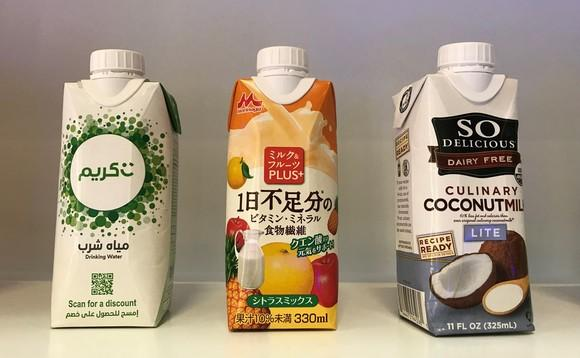cardboard: (394, 42, 533, 335), (51, 49, 180, 326), (225, 46, 338, 330)
